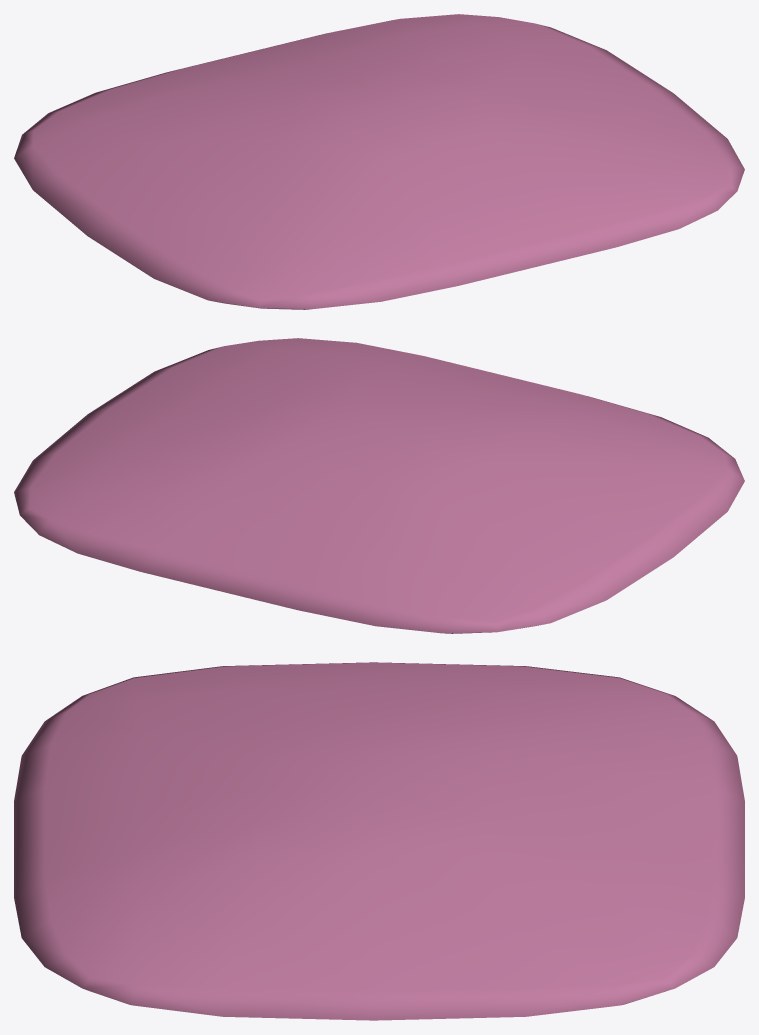
The model's file is terrain_W3lakec.fbx.
3 views of the same model, one above another, from view 1: azimuth 30°, elevation 25°; view 2: azimuth 150°, elevation 25°; view 3: azimuth 270°, elevation 25° (orthographic). The views are drawn at different scales.
Visible parts, largest first — view 1: W4lakec_mesh; view 2: W4lakec_mesh; view 3: W4lakec_mesh.
Boxes of the visible parts, x1,y1,x2,y2 form: W4lakec_mesh: (14,14,744,309); W4lakec_mesh: (14,338,744,633); W4lakec_mesh: (14,662,744,1020).
Size of the model in its own units: 4176 by 430 by 3601.
